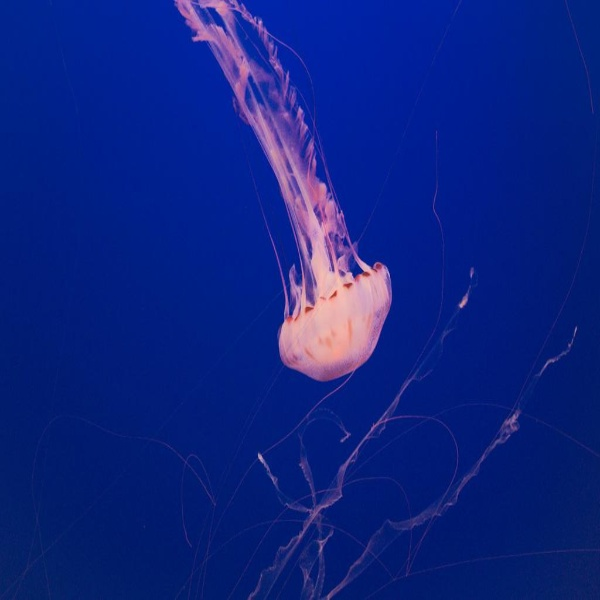Jellyfish: (161, 3, 417, 419)
